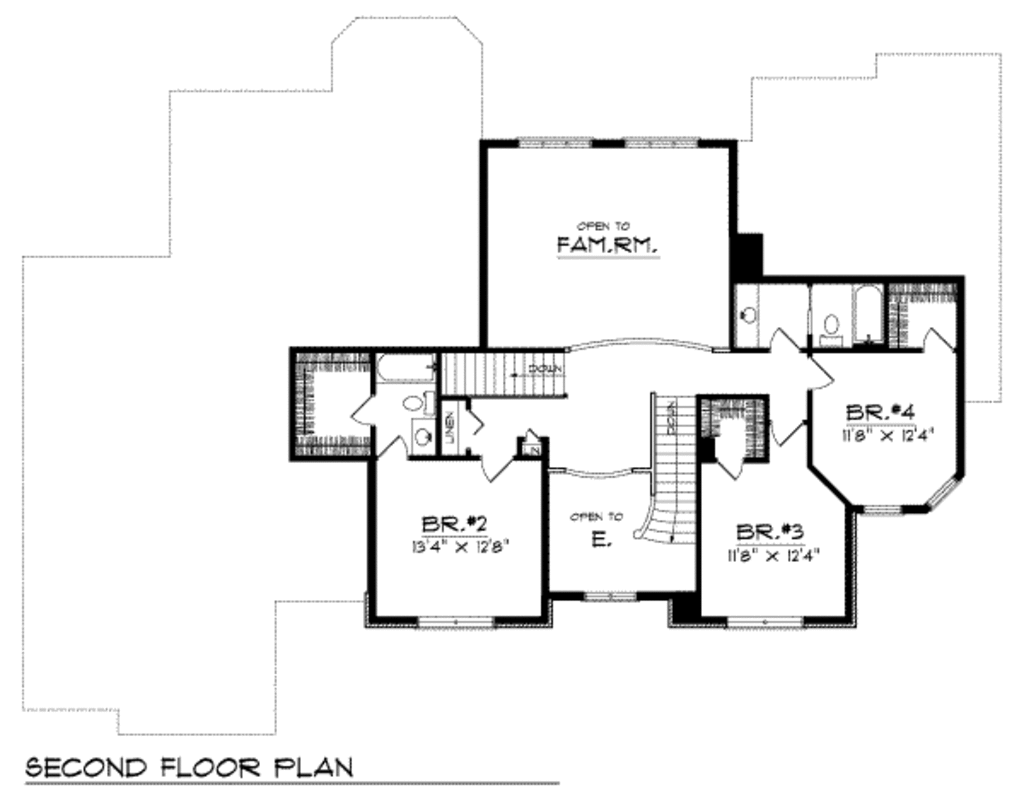door: (769, 415, 818, 448), (805, 353, 837, 396), (474, 455, 516, 485), (920, 324, 958, 353), (350, 391, 378, 430), (378, 434, 412, 464), (767, 326, 799, 357)
large_sink: (812, 313, 845, 348), (398, 388, 434, 420)
small_sink: (736, 282, 764, 352)
stairs: (629, 389, 703, 546), (438, 346, 571, 404)
tub: (368, 346, 437, 385), (853, 284, 889, 346)
windows: (511, 135, 701, 151), (724, 607, 811, 630), (412, 610, 498, 632), (579, 586, 641, 607), (851, 500, 909, 520)
